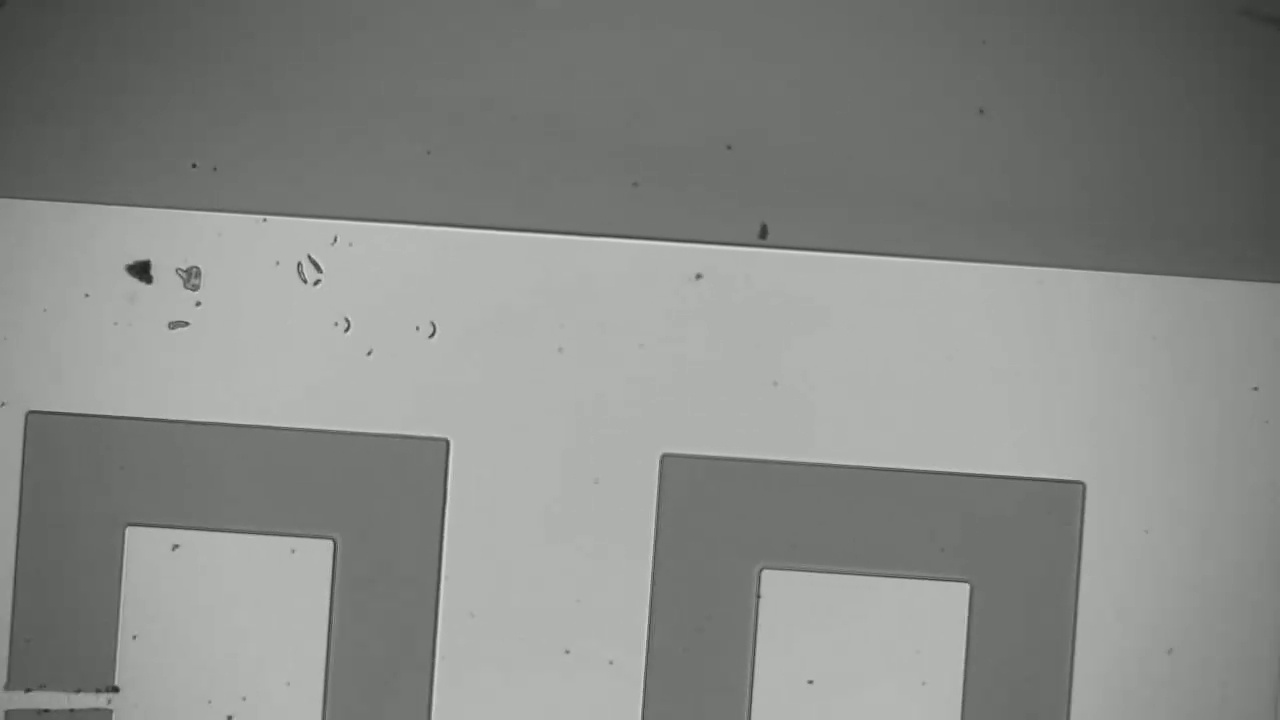Short_circuit: (0, 662, 134, 720)
